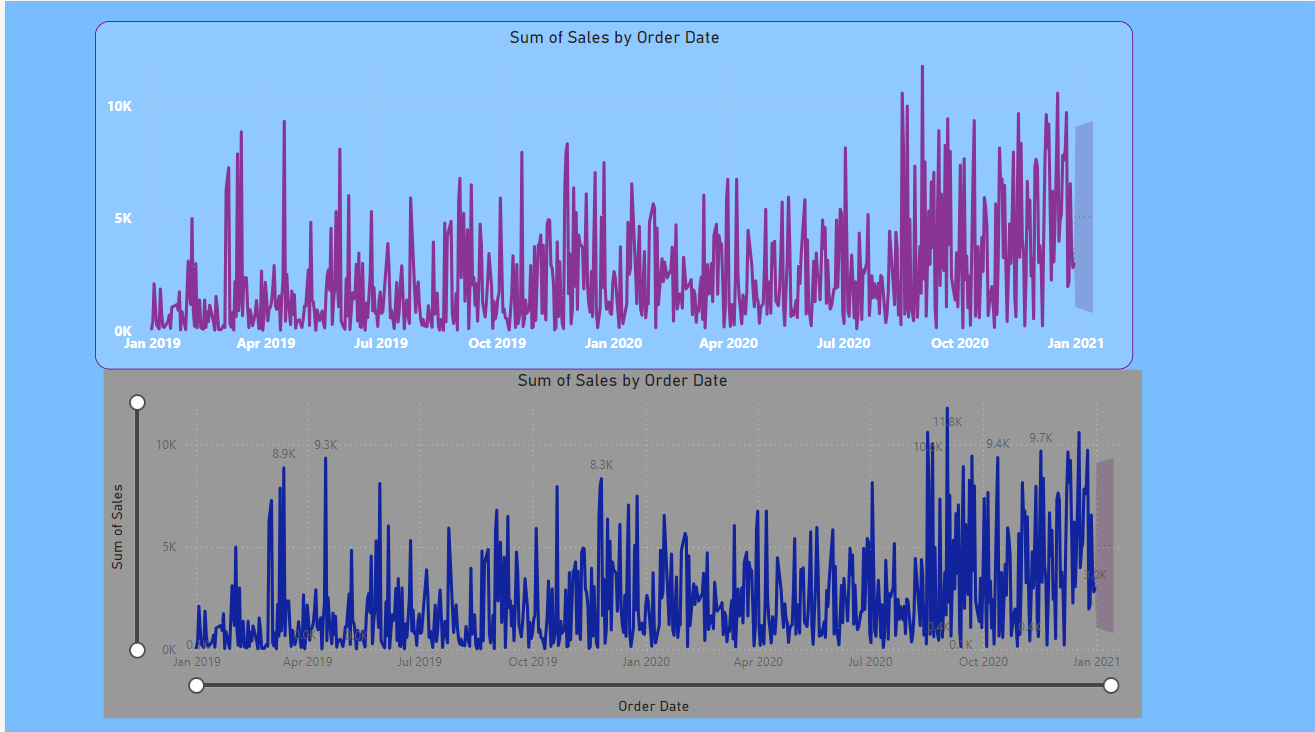

The page's visual inventory and layout, read from the dashboard file:
{"tool":"powerbi","page":{"name":"Page 2","canvas":[1280,720],"ordinal":1},"visuals":[{"type":"lineChart","fields":{"Y":["Sum(SuperStore_Sales_Dataset.Sales)"],"Category":["SuperStore_Sales_Dataset.Order Date"]},"box":[88,19.6,1012.5,339.9],"z":0},{"type":"lineChart","fields":{"Y":["Sum(SuperStore_Sales_Dataset.Sales)"],"Category":["SuperStore_Sales_Dataset.Order Date"]},"box":[96.6,359.5,1012.5,339.9],"z":1000}]}

Visuals, with their boxes in screenshot pixels (x1, y1, x2, y2), scaled from the page's 1280x720 canvas onto the 1315x732 screenshot:
lineChart - Sum(SuperStore_Sales_Dataset.Sales) x SuperStore_Sales_Dataset.Order Date: (left=90, top=20, right=1131, bottom=365)
lineChart - Sum(SuperStore_Sales_Dataset.Sales) x SuperStore_Sales_Dataset.Order Date: (left=99, top=365, right=1139, bottom=711)
